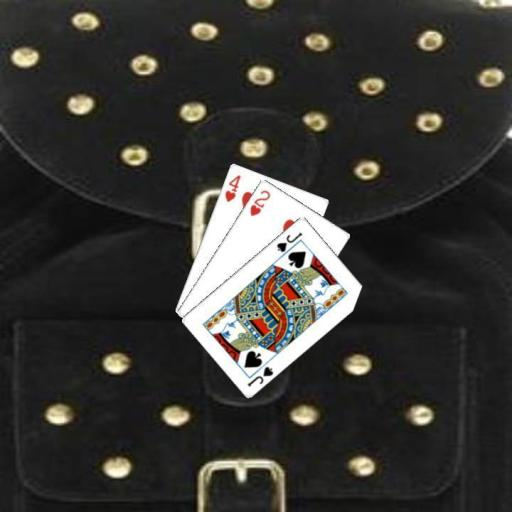card-corner: (246, 186, 272, 218), (273, 229, 304, 254), (244, 363, 275, 388), (221, 172, 242, 204)
